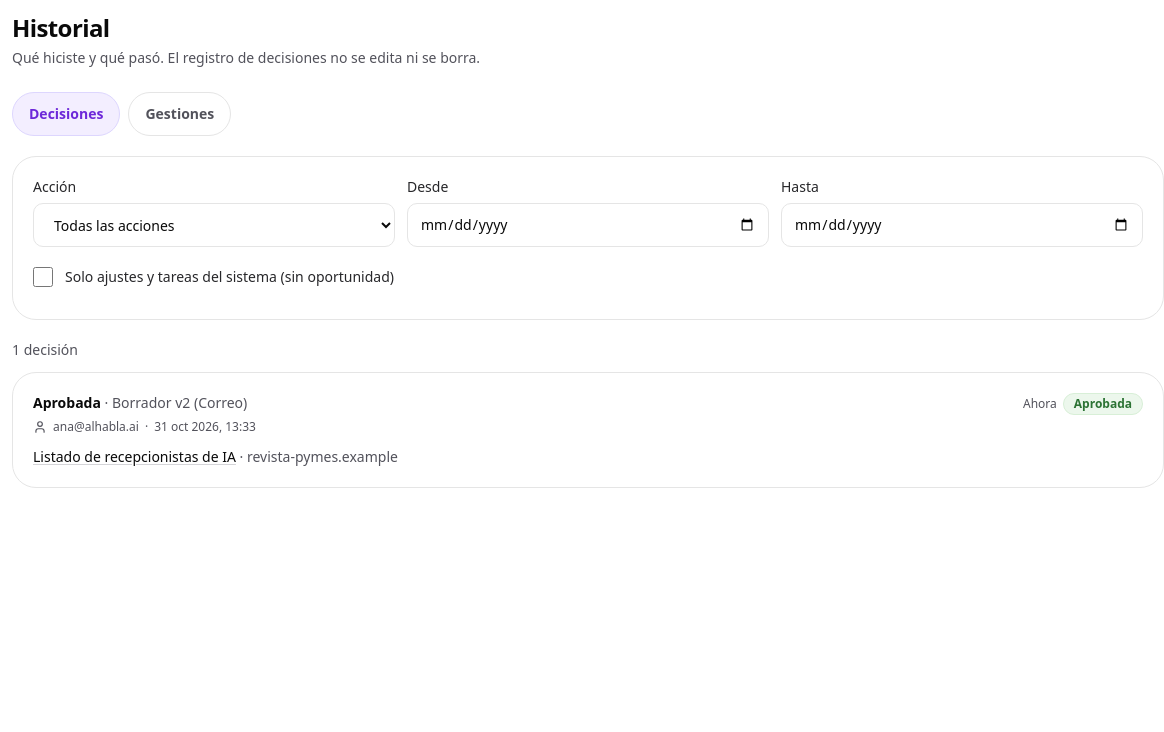
Historial · gestiones › una URL conseguida javascript:alert(document.cookie) no se pinta como enlace: se enseña como texto
This screenshot has width=1164, height=732.
Expected: the list named "Decisiones" is shown, [12,372,1163,488]
What coordinates should you click on to do the following:
click the tab "Gestiones"
I would click on:
 (180, 114)
Its box is [128,92,231,136].
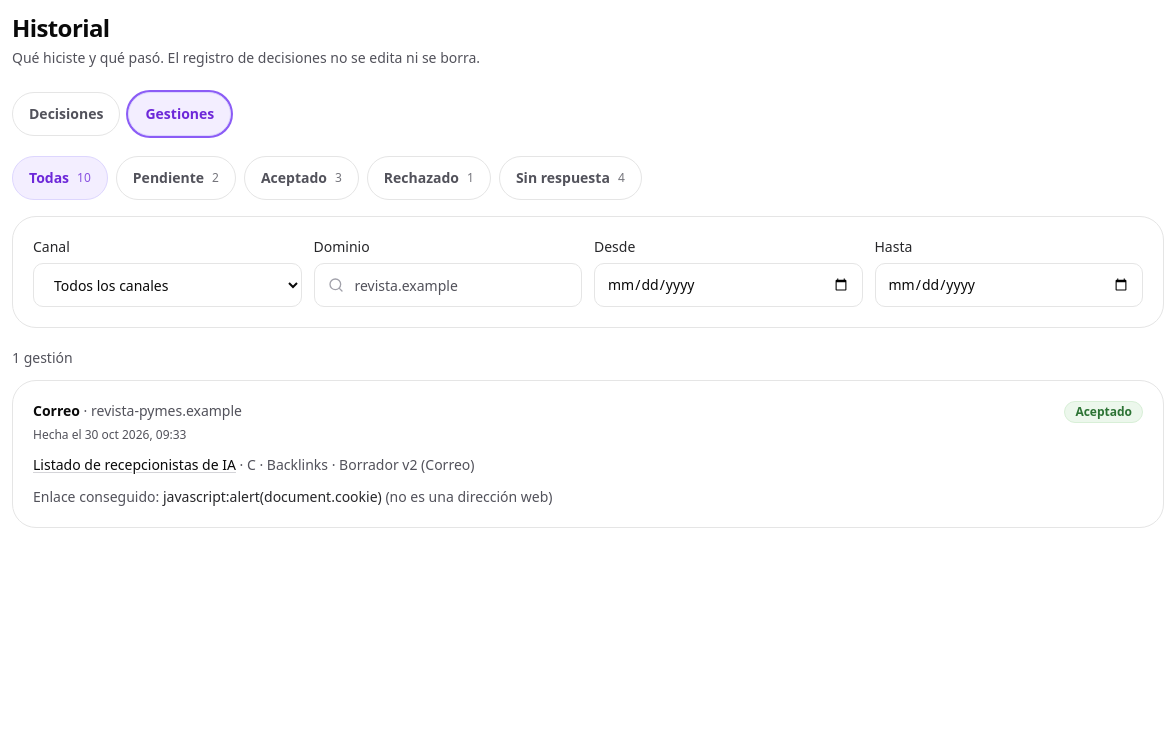
Result: the list named "Gestiones" shows "(no es una dirección web)" at [385,487,553,506]
Result: the list named "Gestiones" shows "javascript:alert(document.cookie)" at [163,487,382,506]
